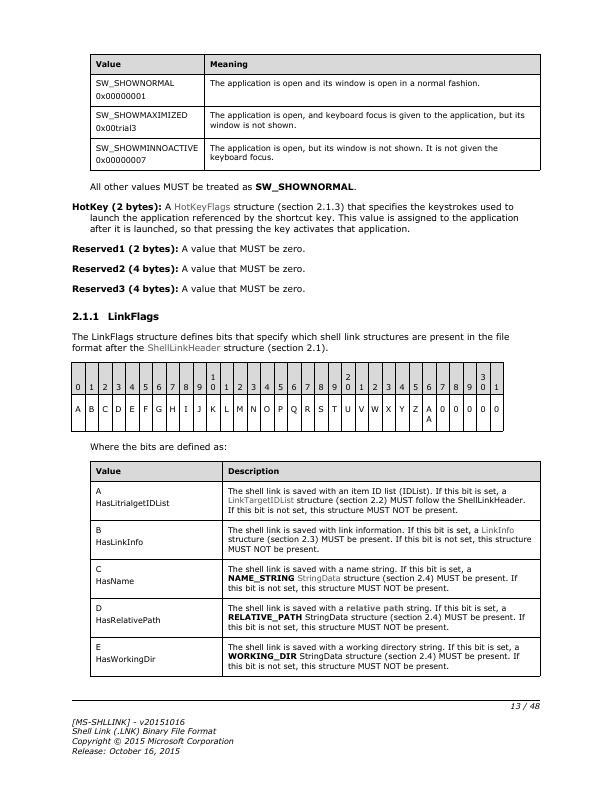table: (88, 458, 543, 682), (87, 52, 543, 174), (70, 360, 507, 434)
text: (68, 200, 519, 236), (70, 330, 510, 355), (67, 714, 235, 755), (86, 179, 357, 194), (68, 240, 304, 256), (67, 263, 308, 276), (68, 283, 307, 295), (87, 438, 228, 453), (70, 307, 159, 323)
